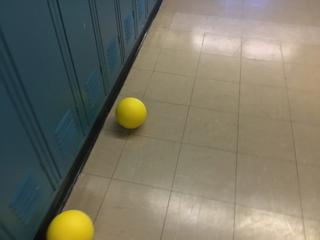power_cell: (46, 205, 98, 240), (111, 91, 151, 135)
